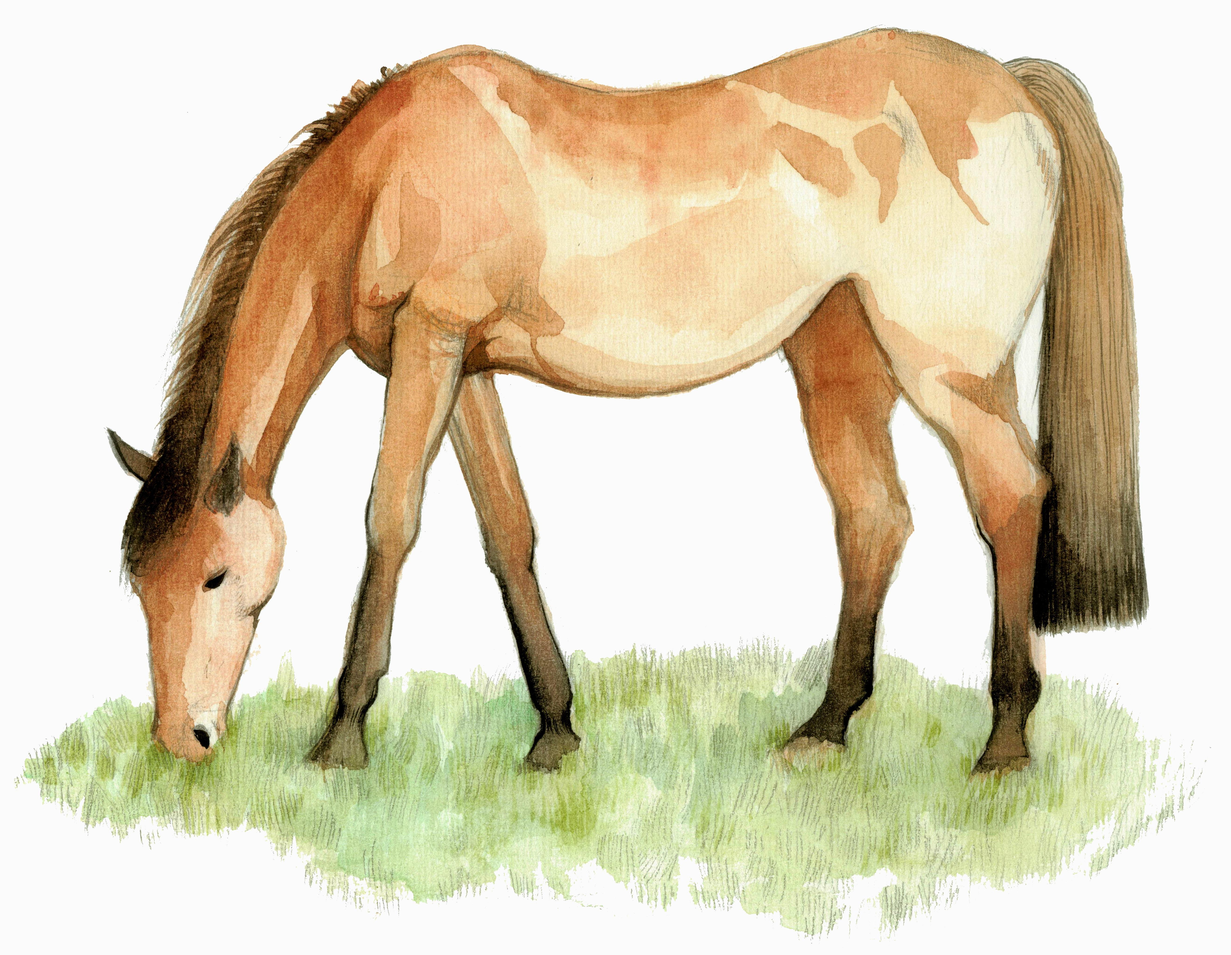horse: (94, 12, 1161, 785)
